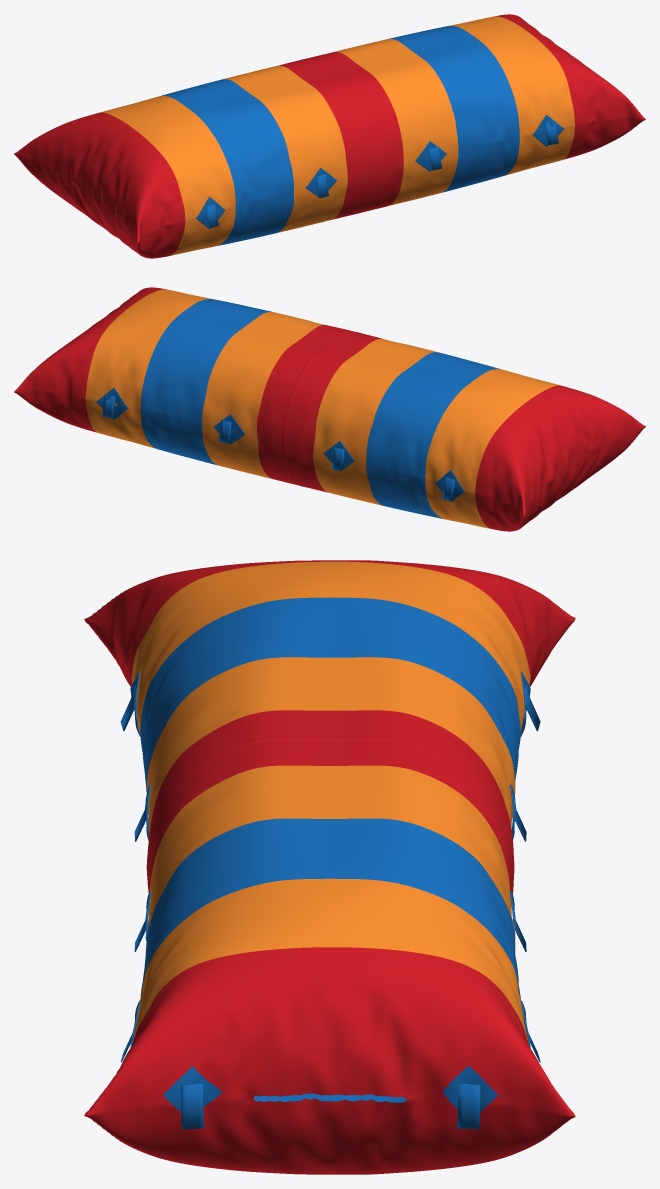
The model's file is blob35.glb.
3 renders of one model, top to bottom at view 1: azimuth 30°, elevation 25°; view 2: azimuth 150°, elevation 25°; view 3: azimuth 270°, elevation 25°, orthographic. The views are drawn at different scales.
Parts seen in each view (by area): view 1: Node2, Node1, Node3, Node5, Node6, Node8; view 2: Node2, Node1, Node3, Node5, Node6, Node8; view 3: Node1, Node2, Node3, Node8, Node7, Node5.
Boxes of the visible parts, box(x1,y1,x2,y2) form: Node2: box(100, 16, 575, 255); Node1: box(14, 14, 645, 258); Node3: box(160, 26, 519, 245); Node5: box(196, 114, 564, 229); Node6: box(316, 146, 442, 198); Node8: box(205, 121, 558, 228); Node2: box(85, 289, 560, 528); Node1: box(14, 287, 645, 531); Node3: box(140, 299, 500, 518); Node5: box(96, 388, 464, 502); Node6: box(218, 419, 344, 471); Node8: box(102, 394, 454, 501); Node1: box(84, 560, 575, 1174); Node2: box(131, 561, 530, 1043); Node3: box(140, 597, 520, 1102); Node8: box(120, 682, 540, 1129); Node7: box(163, 1066, 498, 1111); Node5: box(130, 671, 530, 1047).
Size of the model in its own units: 214 by 51.96 by 89.13.
